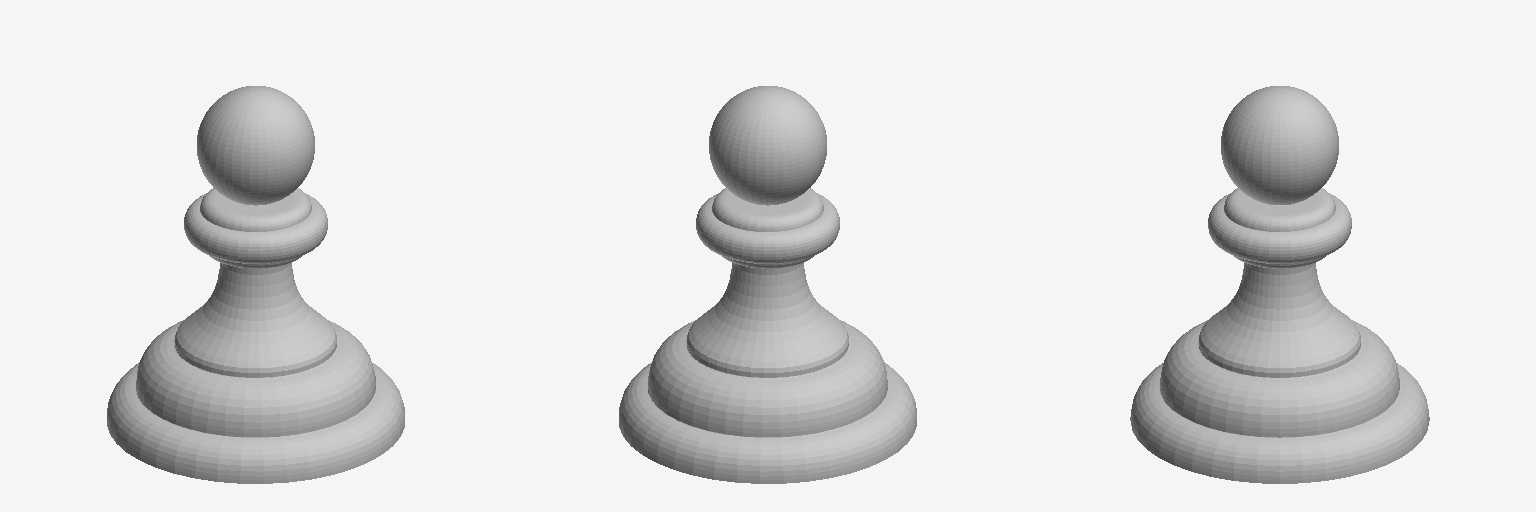
3 views of the same model, side by side, from view 1: azimuth 30°, elevation 25°; view 2: azimuth 150°, elevation 25°; view 3: azimuth 270°, elevation 25° (orthographic).
Parts seen in each view (by area): view 1: white_pawn1_Mesh.003; view 2: white_pawn1_Mesh.003; view 3: white_pawn1_Mesh.003.
Boxes of the visible parts, <box> form: white_pawn1_Mesh.003: <box>107,86,404,483</box>; white_pawn1_Mesh.003: <box>619,86,916,483</box>; white_pawn1_Mesh.003: <box>1130,86,1429,483</box>.
Size of the model in its own units: 0.1351 by 0.1645 by 0.1351.